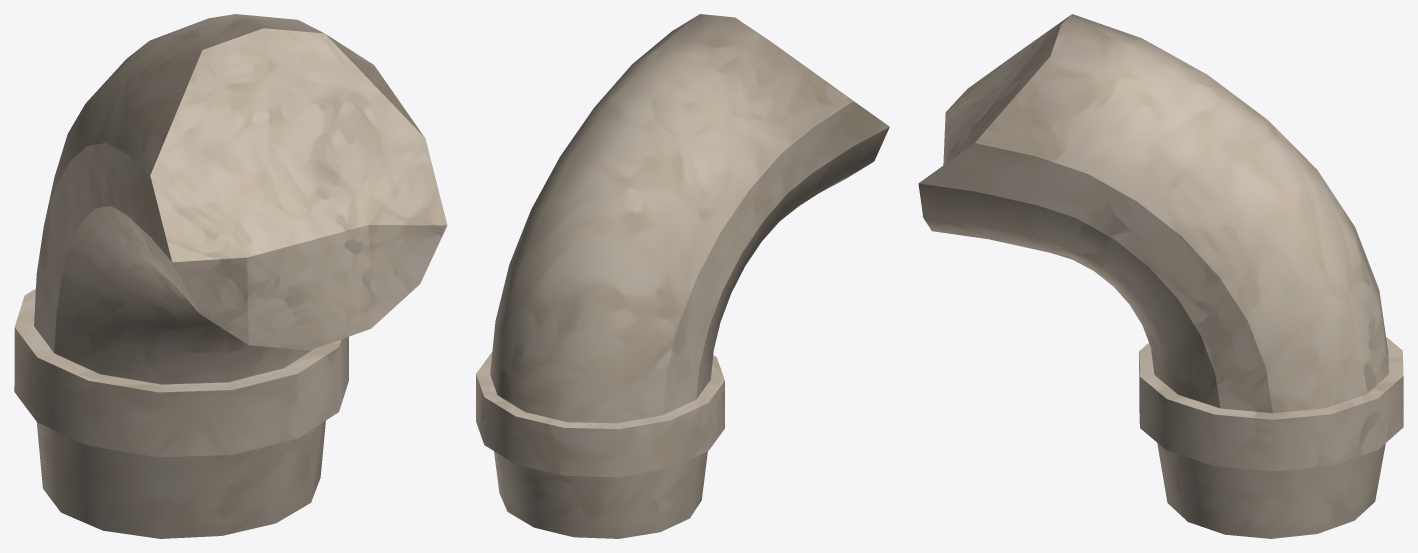
Rendered from kolumna_2_top.obj.
The picture shows the model from 3 angles, left to right: view 1: azimuth 30°, elevation 25°; view 2: azimuth 150°, elevation 25°; view 3: azimuth 270°, elevation 25°; orthographic projection. The views are drawn at different scales.
Parts seen in each view (by area): view 1: Cube.010; view 2: Cube.010; view 3: Cube.010.
Part boxes in pixels (x1,y1,x2,y2): Cube.010: (14,14,447,538); Cube.010: (476,14,889,538); Cube.010: (918,14,1403,538).
Size of the model in its own units: 7.77 by 12.11 by 11.87.
1 material, 1 textured.
